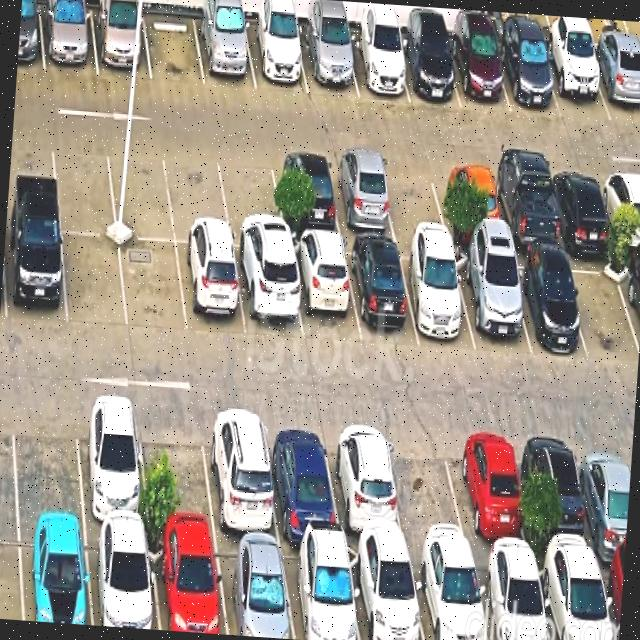empty: (383, 424, 471, 552), (138, 403, 215, 535), (11, 395, 83, 523), (564, 251, 640, 359), (216, 149, 286, 250), (106, 140, 175, 241), (119, 238, 187, 335), (165, 145, 231, 244), (51, 136, 116, 234), (62, 233, 127, 328), (378, 158, 448, 238), (143, 11, 204, 85)
occupied: (449, 425, 530, 557), (324, 418, 406, 547), (201, 408, 279, 540), (263, 413, 341, 541), (522, 429, 597, 559), (75, 397, 148, 530), (452, 250, 531, 354), (213, 538, 294, 639), (398, 245, 475, 350), (506, 253, 586, 354), (148, 533, 227, 634), (344, 240, 418, 343), (281, 543, 359, 640), (86, 527, 159, 630), (288, 238, 360, 342), (19, 524, 91, 625), (347, 546, 424, 640), (575, 433, 630, 560), (409, 553, 488, 640), (472, 554, 550, 640), (176, 243, 246, 336), (535, 557, 613, 640), (233, 249, 303, 341), (5, 223, 66, 325), (488, 165, 561, 250), (434, 162, 504, 244), (271, 153, 341, 235), (327, 155, 396, 236), (540, 43, 610, 121), (547, 167, 614, 247), (495, 37, 561, 116), (447, 34, 510, 111), (395, 35, 460, 107), (244, 20, 308, 93), (194, 15, 255, 90), (345, 31, 409, 102), (90, 7, 151, 78), (586, 45, 640, 123), (39, 4, 97, 74), (298, 28, 358, 95), (598, 169, 640, 248), (597, 560, 624, 640), (620, 254, 640, 335)
